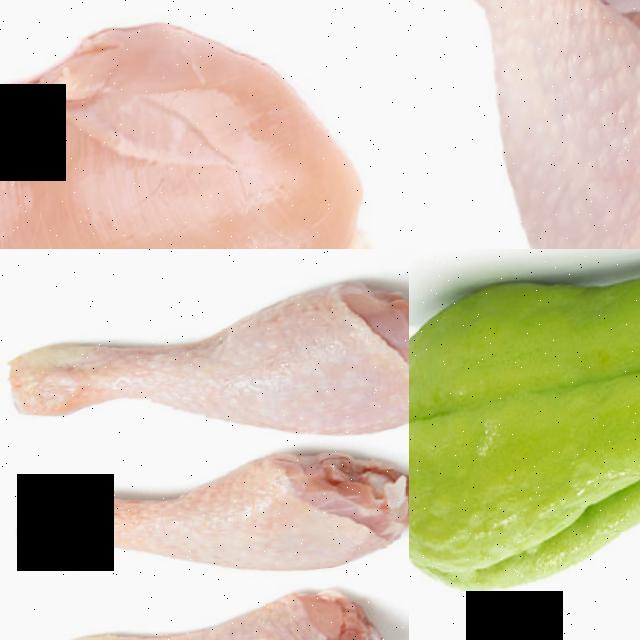chayote: (409, 249, 640, 618)
chicken breast: (0, 0, 409, 249)
chicken thigh: (0, 284, 409, 475), (11, 448, 409, 609), (409, 0, 640, 249), (52, 585, 409, 640)
